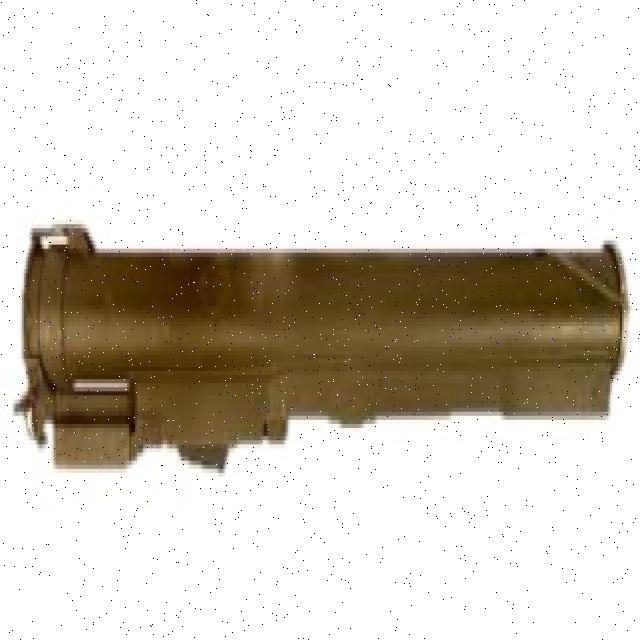bazooka: (9, 216, 634, 501)
